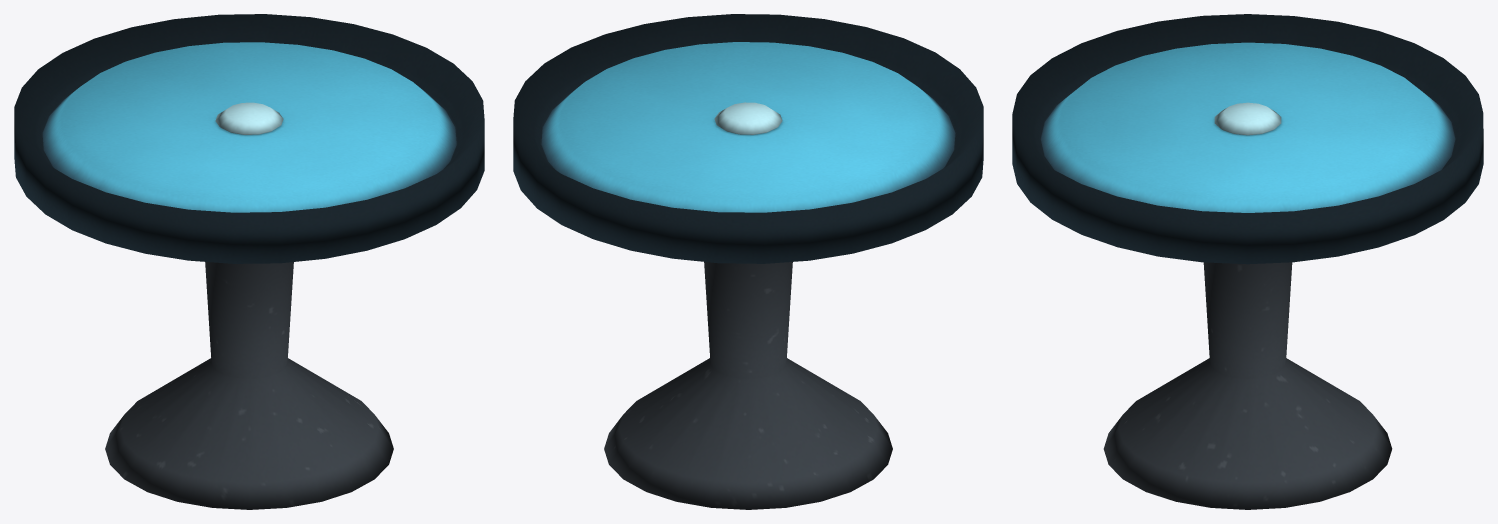
File: Mesa_Holo.fbx
3 renders of one model, left to right at view 1: azimuth 30°, elevation 25°; view 2: azimuth 150°, elevation 25°; view 3: azimuth 270°, elevation 25°, orthographic.
Parts seen in each view (by area): view 1: Malla; view 2: Malla; view 3: Malla.
Part boxes in pixels (x1=…): Malla: x1=14, y1=14, x2=484, y2=509; Malla: x1=513, y1=14, x2=983, y2=509; Malla: x1=1012, y1=14, x2=1483, y2=509.
Bounding box in the file's own units: 1.24 × 0.9852 × 1.24.
1 material, 1 textured.
